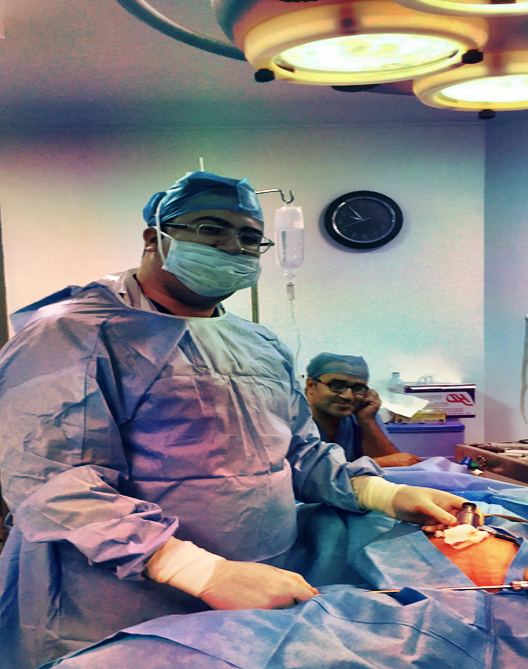mask_weared_incorrect: (141, 176, 281, 302)
